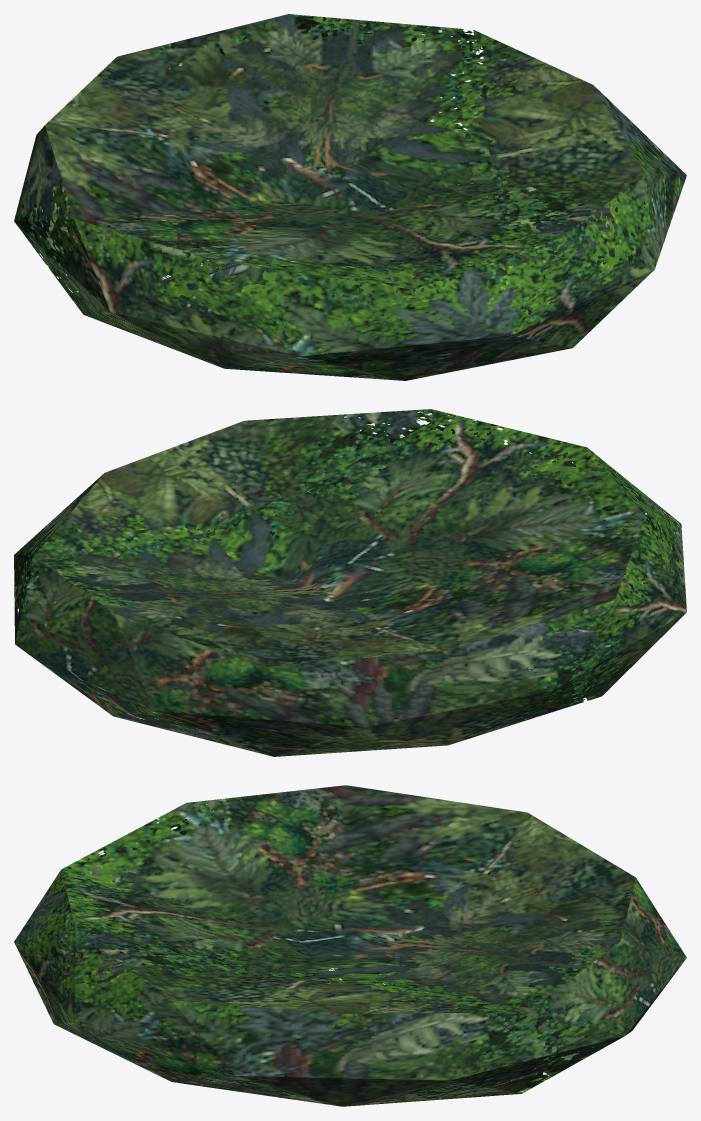
File: MTree_8_Bch_1.gltf
3 views of the same model, one above another, from view 1: azimuth 30°, elevation 25°; view 2: azimuth 150°, elevation 25°; view 3: azimuth 270°, elevation 25° (orthographic). The views are drawn at different scales.
Parts seen in each view (by area): view 1: MTree_8_Bch_1; view 2: MTree_8_Bch_1; view 3: MTree_8_Bch_1.
Boxes of the visible parts, x1=… form: MTree_8_Bch_1: x1=14, y1=14, x2=686, y2=380; MTree_8_Bch_1: x1=14, y1=409, x2=686, y2=756; MTree_8_Bch_1: x1=14, y1=785, x2=686, y2=1106.
Bounding box in the file's own units: 15.19 × 2.75 × 16.68.
1 material, 1 textured.
